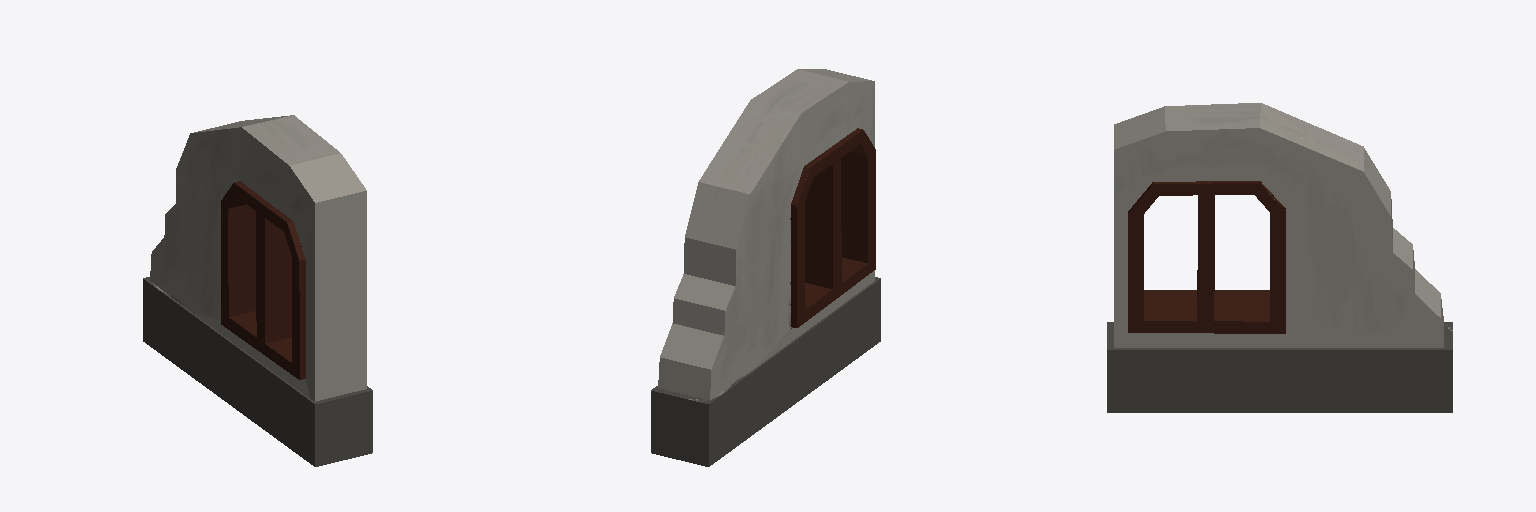
The picture shows the model from 3 angles: view 1: azimuth 30°, elevation 25°; view 2: azimuth 150°, elevation 25°; view 3: azimuth 270°, elevation 25°; orthographic projection.
Visible parts, largest first — view 1: がれき壁１; view 2: がれき壁１; view 3: がれき壁１.
Part boxes in pixels (bbox=[...]): がれき壁１: bbox=[143, 115, 372, 466]; がれき壁１: bbox=[651, 69, 880, 466]; がれき壁１: bbox=[1107, 103, 1452, 412].
Size of the model in its own units: 1.71 by 7.18 by 7.92.
Materials: 1 (1 with a texture image).